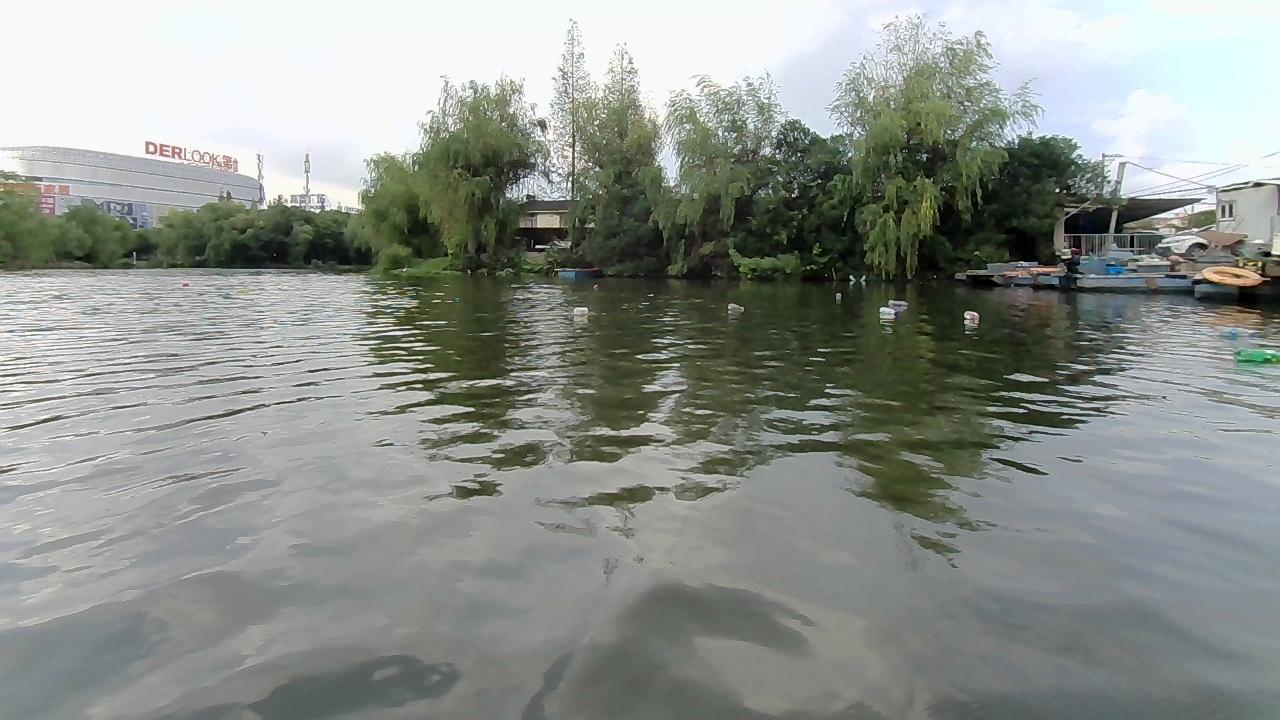bottle: (1234, 345, 1279, 366), (878, 303, 901, 320), (888, 297, 908, 311), (570, 304, 588, 318), (726, 300, 741, 313), (963, 309, 976, 321)
